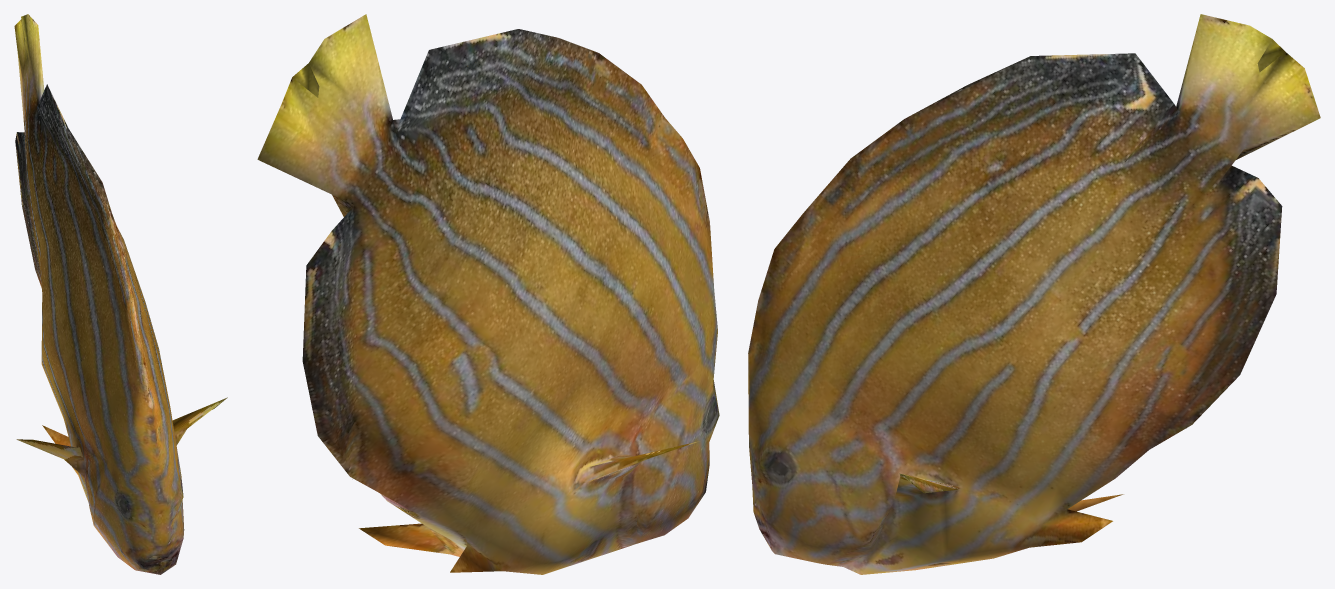
The model's file is angelfish_lo.glb.
The picture shows the model from 3 angles, left to right: view 1: azimuth 30°, elevation 25°; view 2: azimuth 150°, elevation 25°; view 3: azimuth 270°, elevation 25°; orthographic projection. The views are drawn at different scales.
Visible parts, largest first — view 1: angelfish_far; view 2: angelfish_far; view 3: angelfish_far.
Part boxes in pixels (<box>): angelfish_far: <box>14,14,227,574</box>; angelfish_far: <box>257,14,719,574</box>; angelfish_far: <box>748,14,1320,574</box>.
Size of the model in its own units: 0.0615 by 0.1295 by 0.1172.
Materials: 1 (1 with a texture image).
